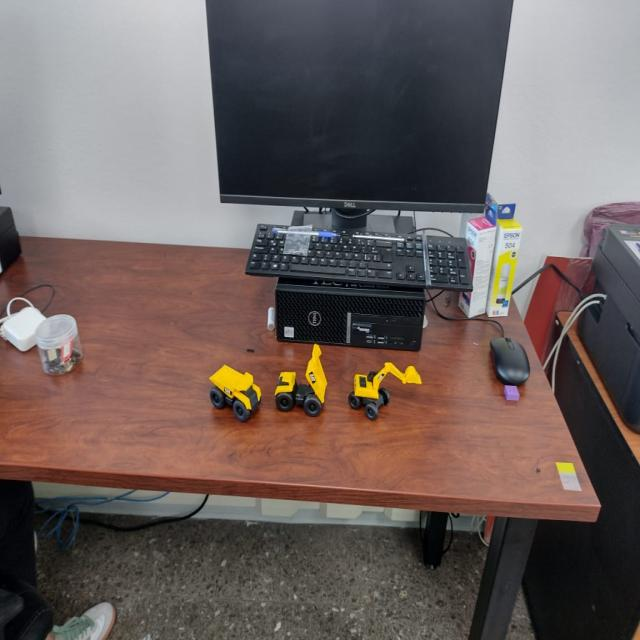dump-truck: (272, 338, 331, 422), (207, 359, 264, 426)
excavator: (343, 356, 425, 427)
